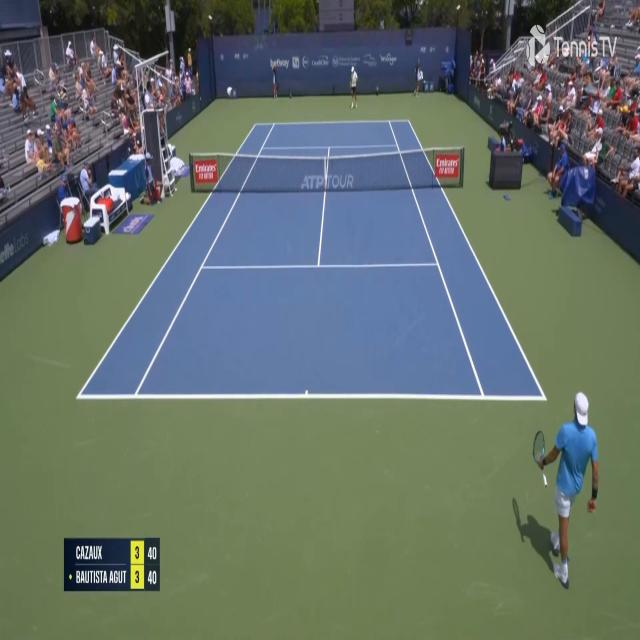tennis-player: (528, 387, 601, 596), (348, 66, 358, 109)
